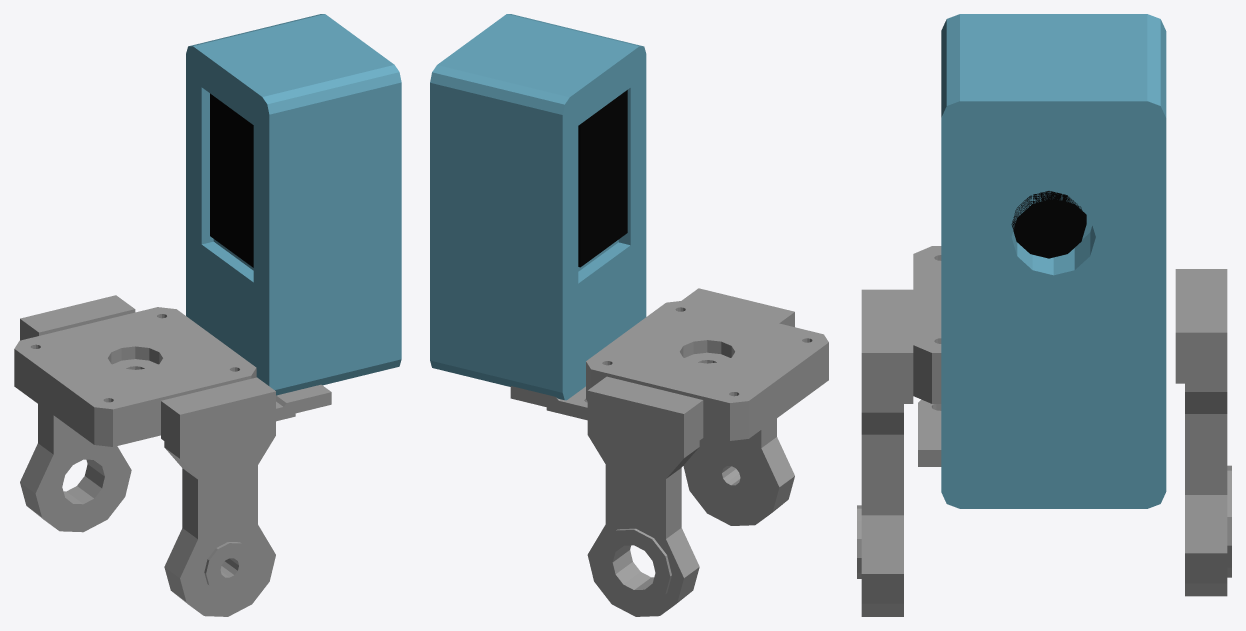
The model's file is head-leye-y.glb.
The picture shows the model from 3 angles, left to right: view 1: azimuth 30°, elevation 25°; view 2: azimuth 150°, elevation 25°; view 3: azimuth 270°, elevation 25°; orthographic projection. The views are drawn at different scales.
Bounding box in the file's own units: 0.0517 × 0.0757 × 0.04.
